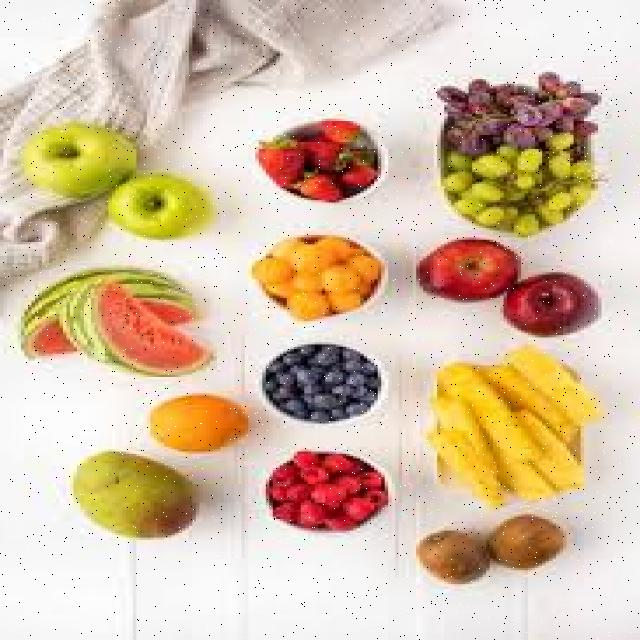Apple: (23, 121, 136, 197), (504, 274, 602, 338), (414, 239, 516, 300), (107, 176, 203, 240)
